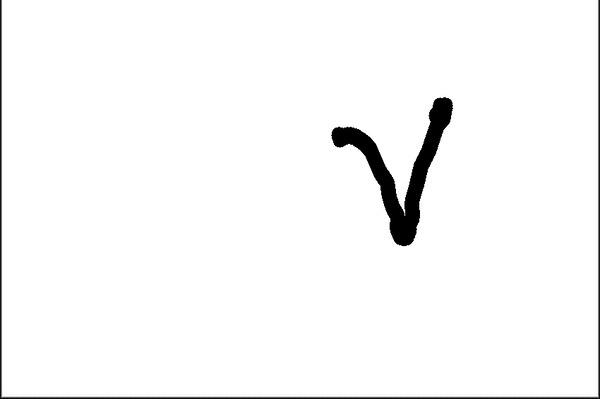V: (321, 90, 462, 251)
